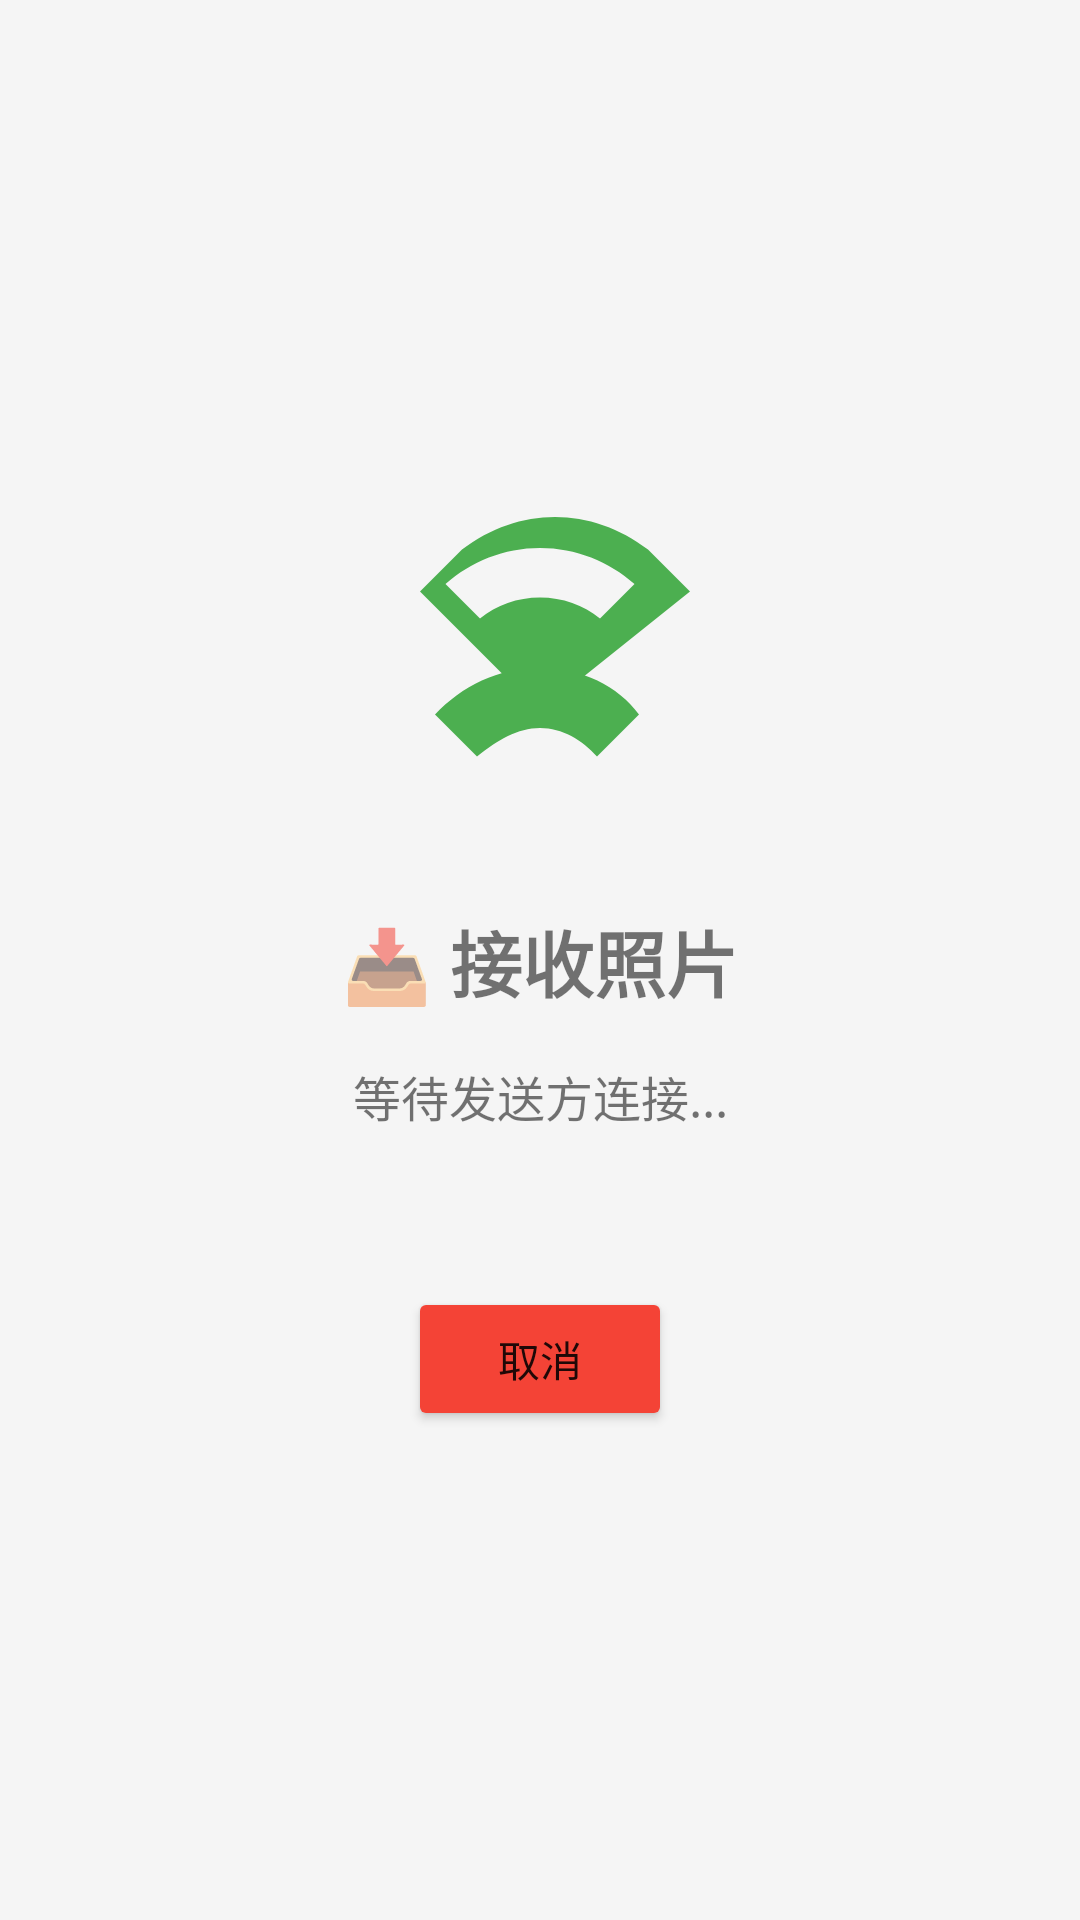

Where icons sit on this 1080 x 1920 app screen, as (x1,y1,x2,y2):
wifi receive: (420,517,690,757)
